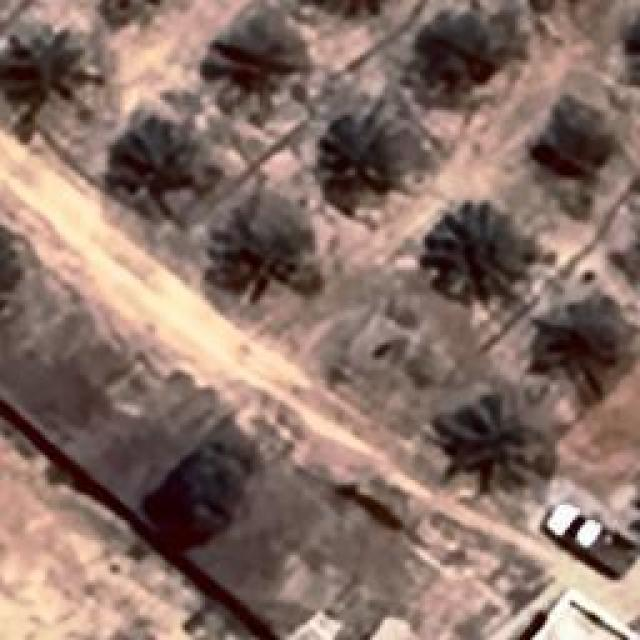PalmTree: (448, 390, 550, 495), (425, 200, 525, 302), (0, 30, 85, 135), (208, 19, 308, 102), (412, 12, 506, 99), (218, 210, 308, 300), (528, 96, 620, 182), (317, 110, 395, 210), (119, 111, 199, 201), (550, 300, 632, 382), (300, 0, 395, 22)
